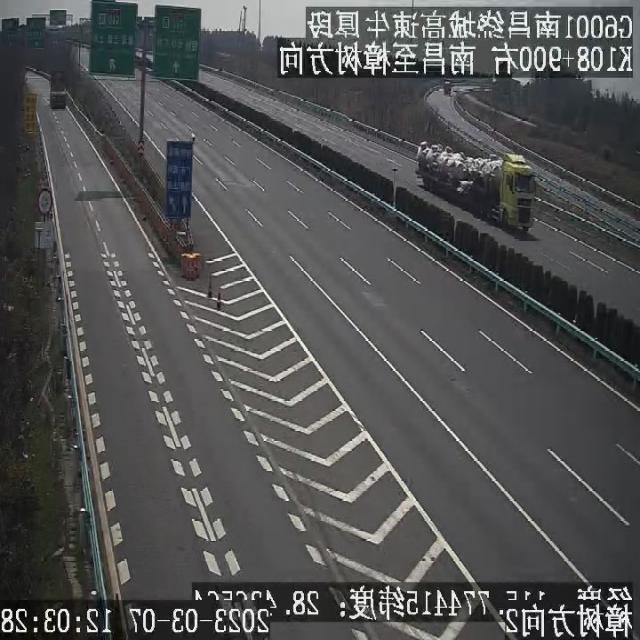point: (22, 55, 54, 95), (463, 76, 489, 108)
